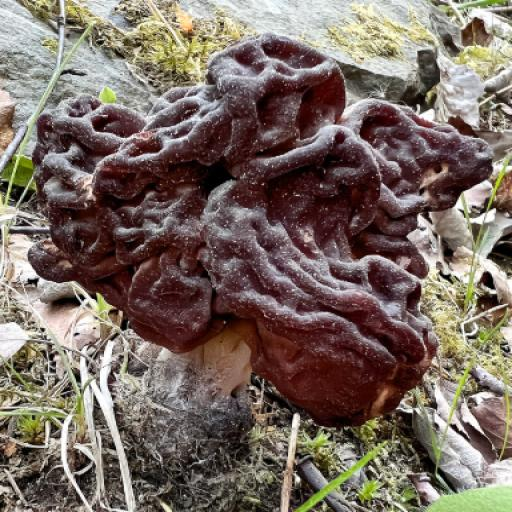False Morel: (0, 0, 498, 449)
